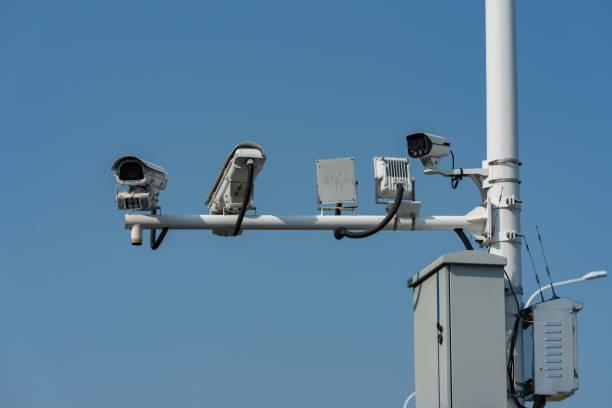camera: (207, 122, 271, 250), (91, 149, 175, 217), (402, 115, 457, 176)
